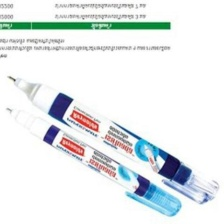correction_fluid: (5, 74, 221, 206), (3, 105, 183, 217)
